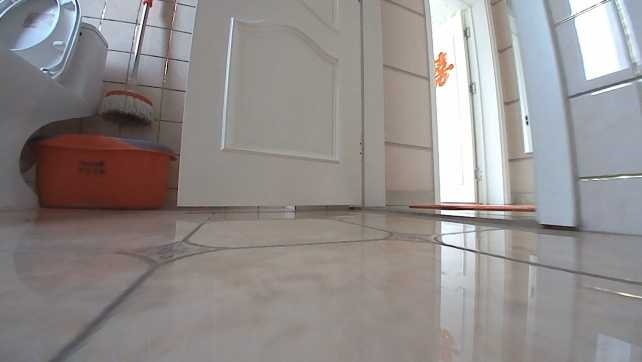door_anno: (176, 2, 386, 207), (432, 2, 512, 205)
door_sill: (387, 209, 533, 226)
toilet: (0, 0, 109, 215)
